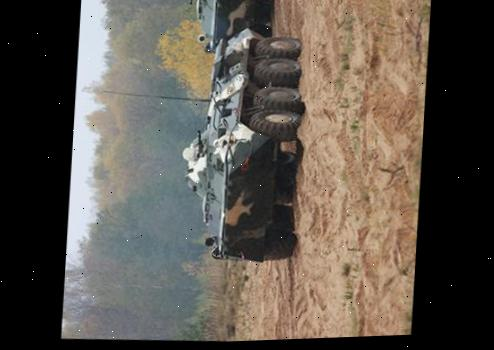tank: (175, 22, 310, 267), (167, 0, 276, 59)
